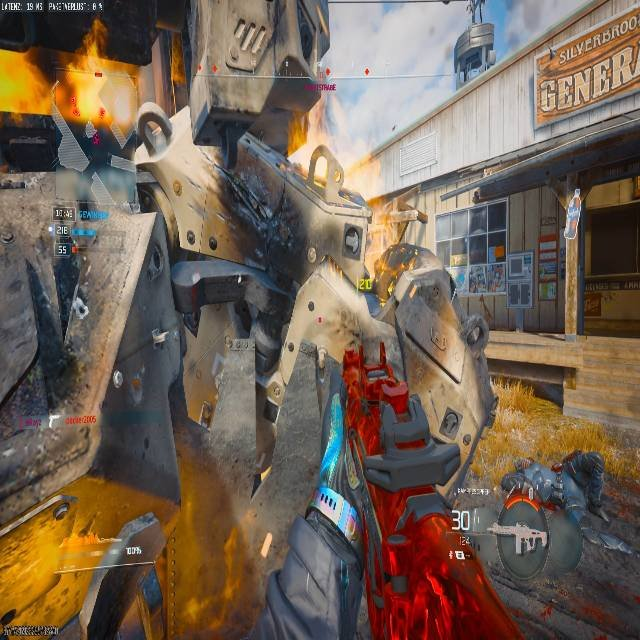player: (253, 232, 498, 640), (449, 0, 495, 85)
